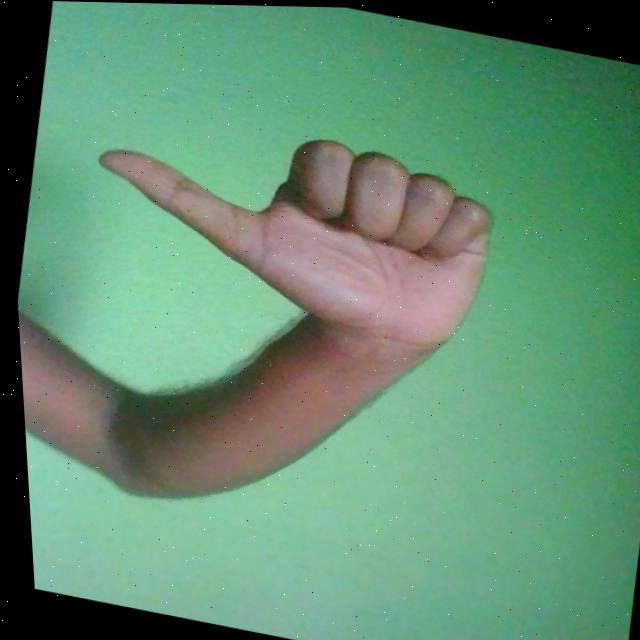Dislike: (67, 96, 507, 365)
